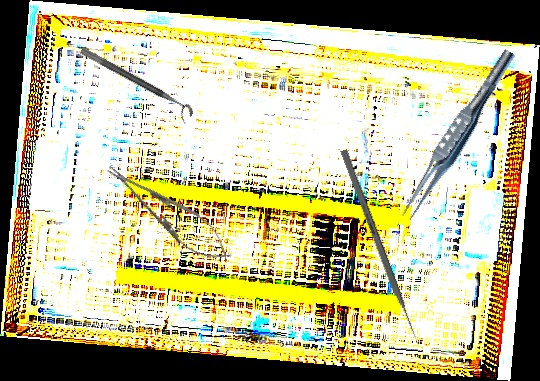Fixation Ring: (74, 46, 196, 125)
Needle Holder: (97, 152, 241, 274)
Pusher: (339, 149, 422, 347)
Tissue Forceps: (396, 44, 520, 226)
